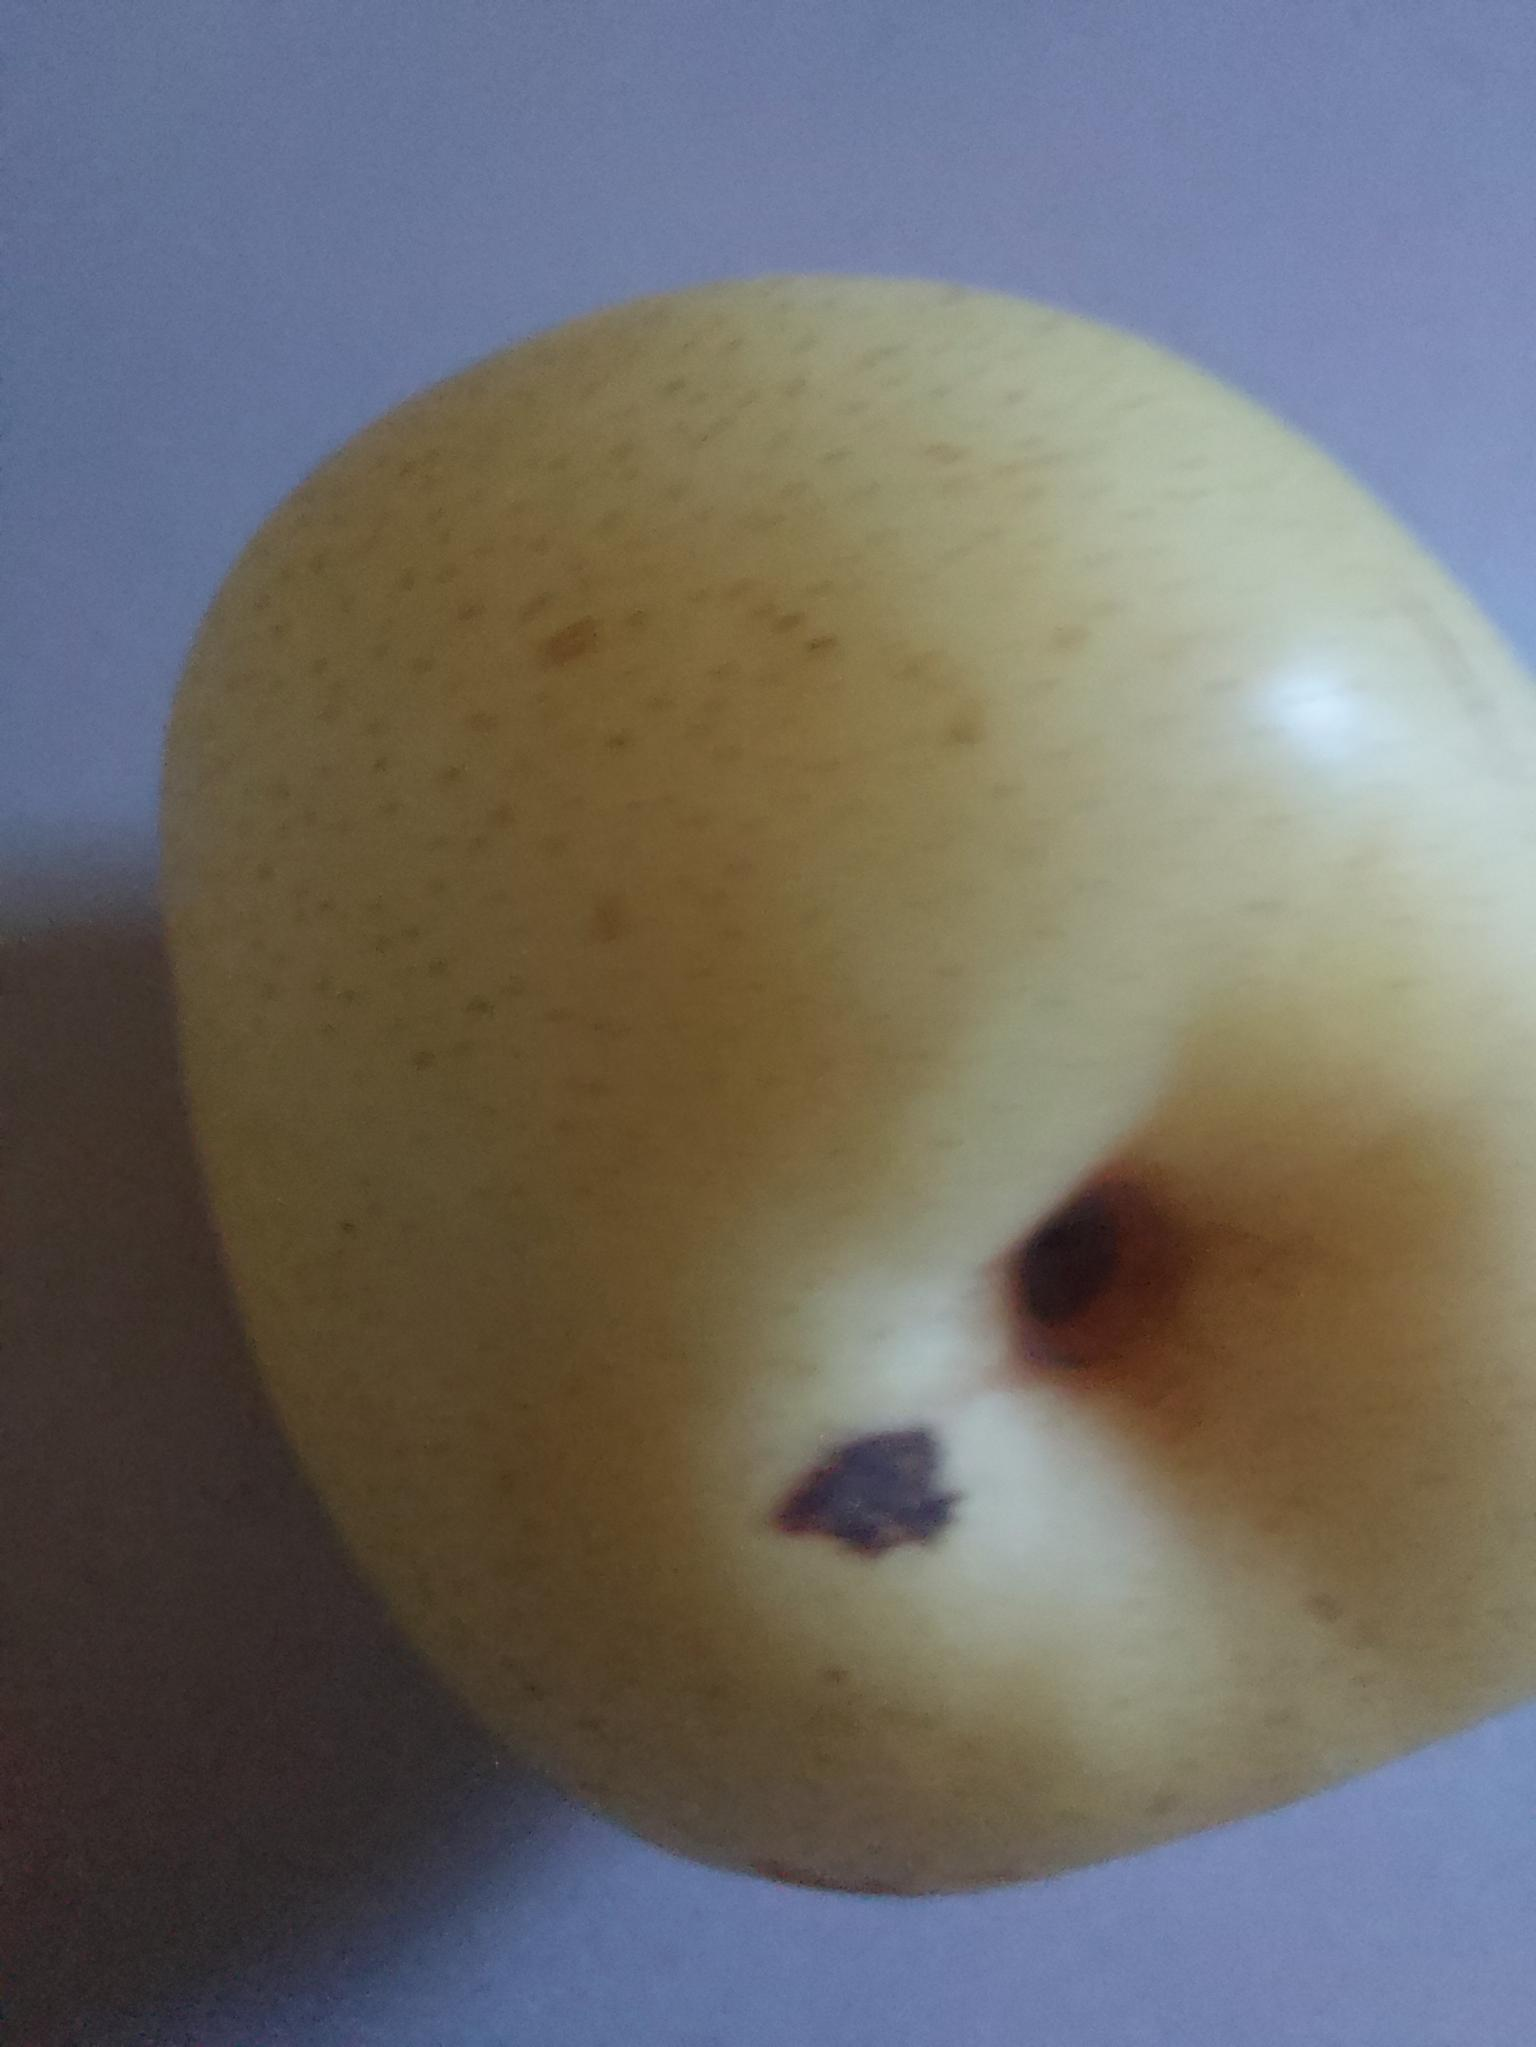Good Pear: (144, 239, 1536, 1900)
